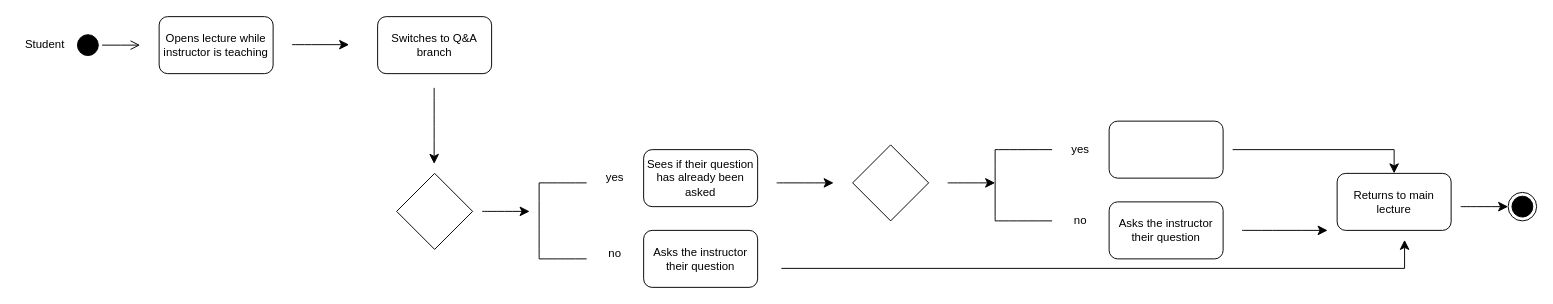
This 1553x304 diagram has some shape labels left out. Each missing label, with the centre of its shape:
Answered?: the point at 890,182
Knows the answer to their question: the point at 1165,149
Works?: the point at 434,210
